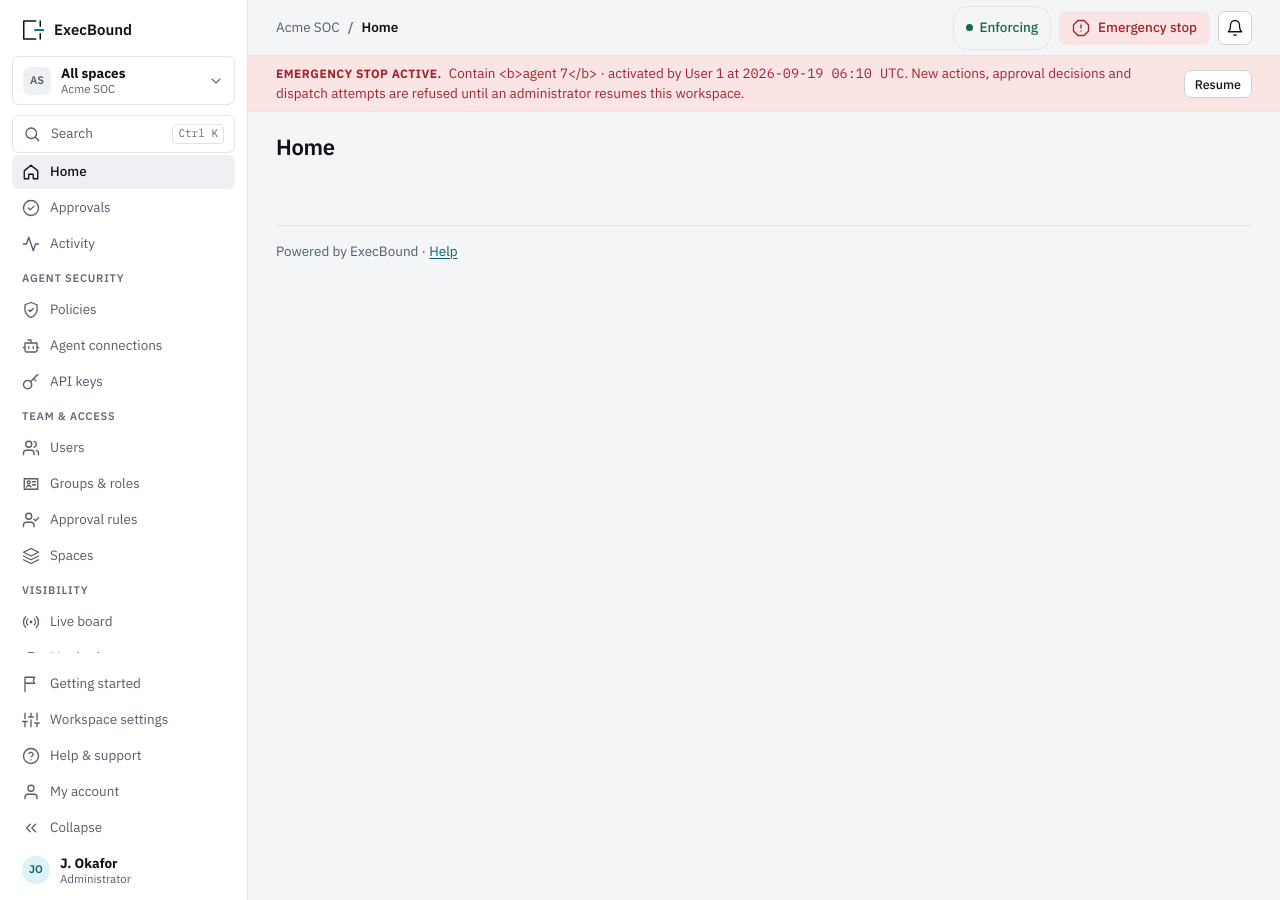
Test: the emergency stop in the shell › shows the banner with the reason as text and Resume to an administrator
The image size is (1280, 900).
Expected: the text "Emergency stop active" shows "Contain <b>agent 7</b>", [449,64,597,82]
Expected: the text "Emergency stop active" shows "activated by User 1 at 2026-09-19 06:10 UTC", [248,56,1279,112]
Click the button "Resume": {"x": 1218, "y": 84} [1184,70,1252,98]
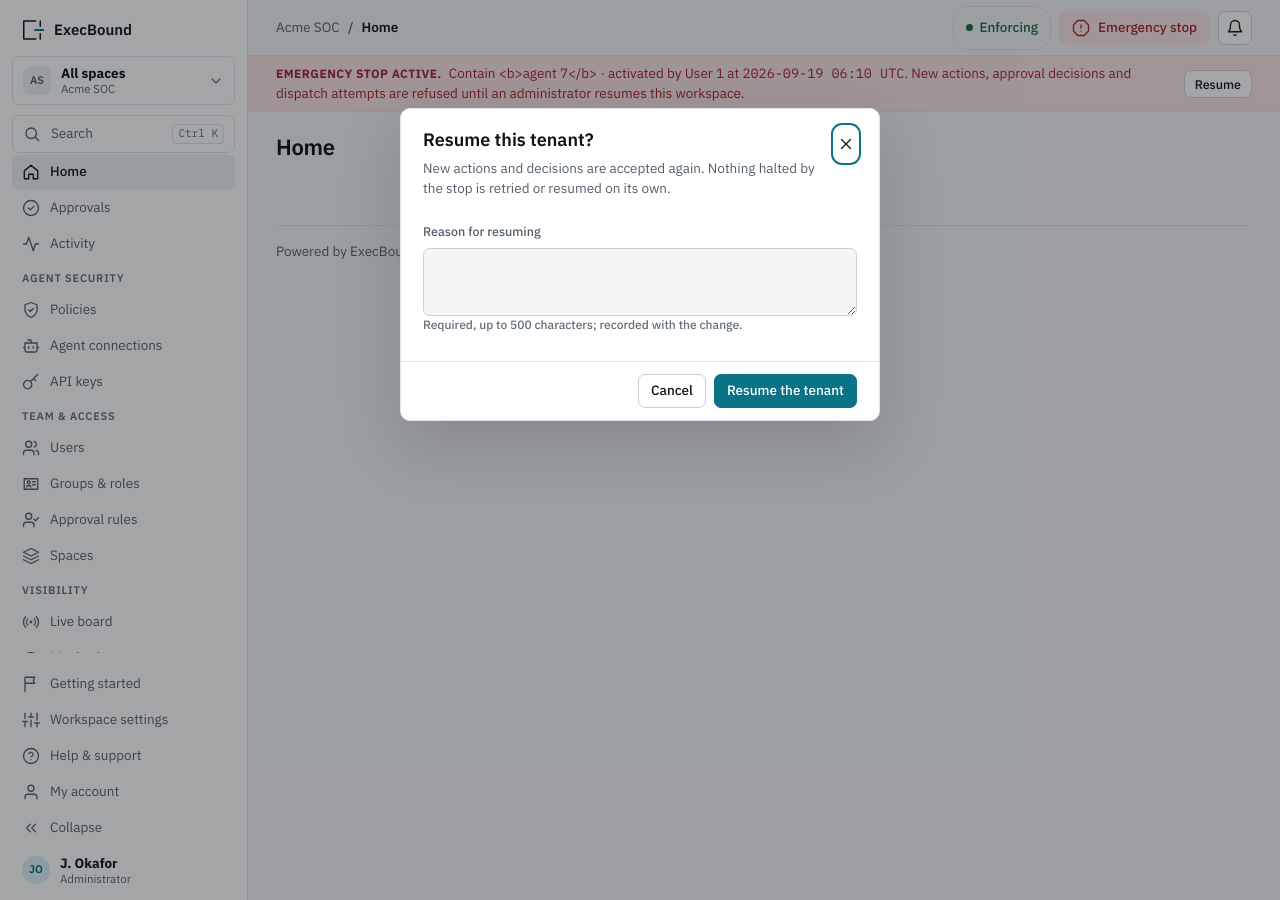
Expected: the dialog "Resume this tenant?" is shown, [400,108,880,421]
